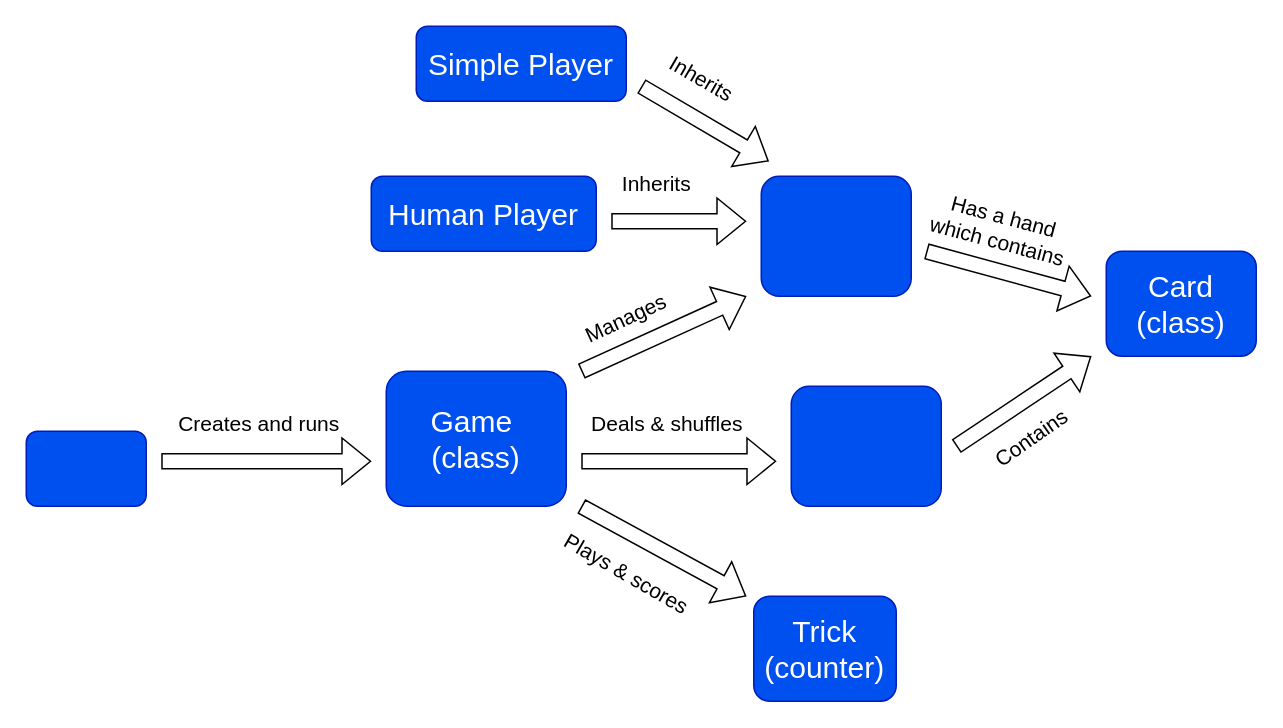
This 1283x728 diagram has some shape labels left out. Each missing label, with the centre of its shape:
Main: the point at 85,468
Pack (class): the point at 865,445
Player (interface): the point at 835,235
